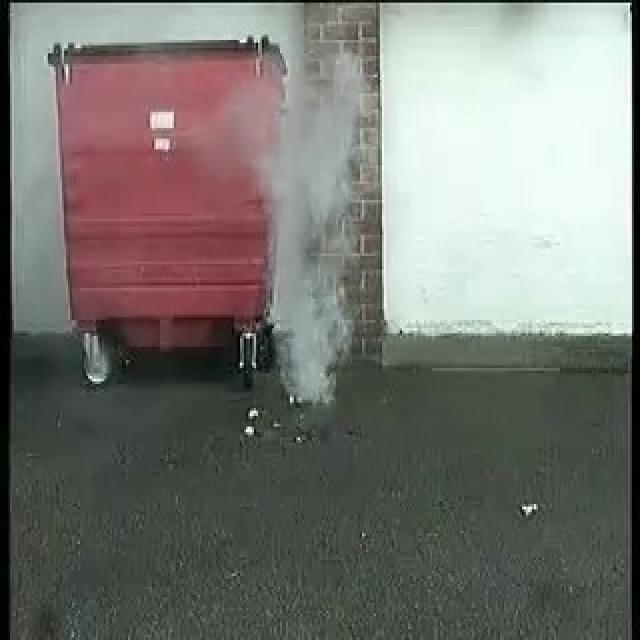smoke: (253, 45, 366, 406)
